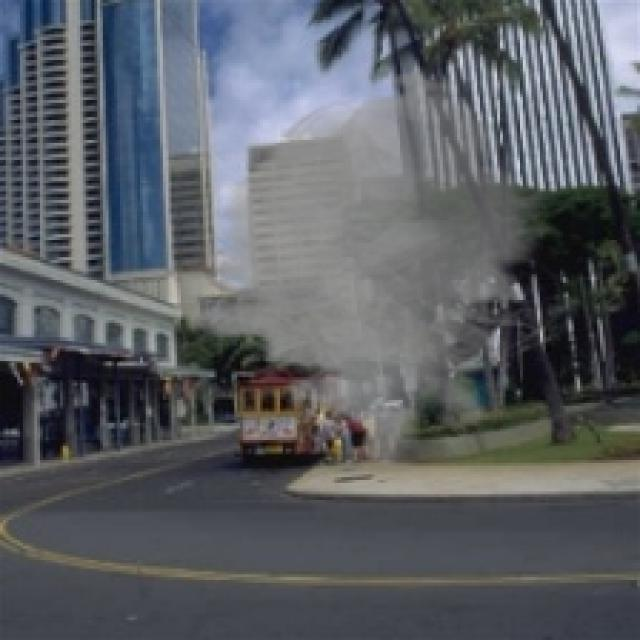smoke: (168, 66, 583, 471)
